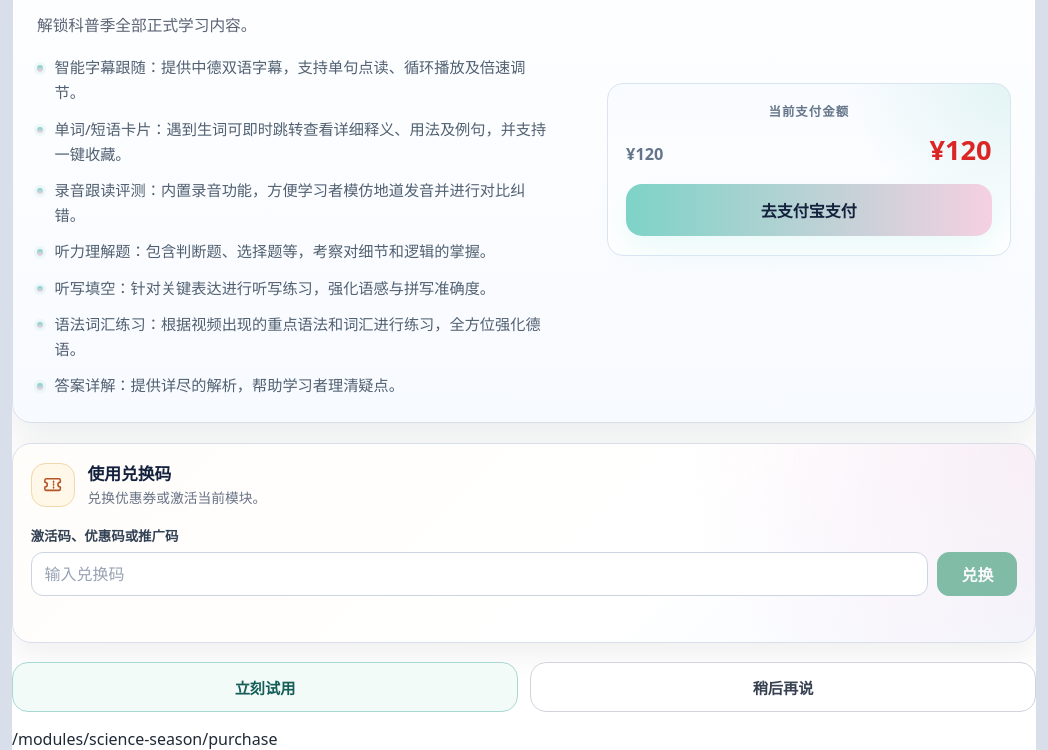
it: ModuleCheckoutPage › reports partial coupon refresh failure while keeping successful applicable updates
(page scrolled)
In the field labelled "激活码、优惠码或推广码": (479, 574) [31,552,928,596], type "SAVE"
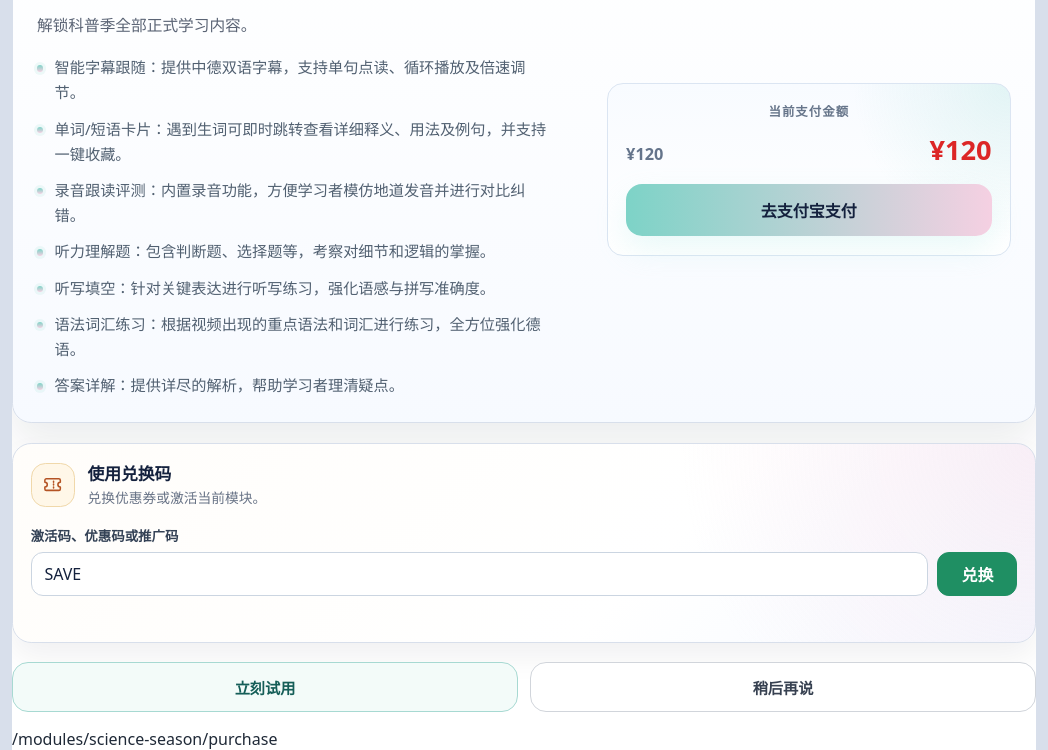
Click the button "兑换": click(977, 574) [937,552,1017,596]
(page scrolled)
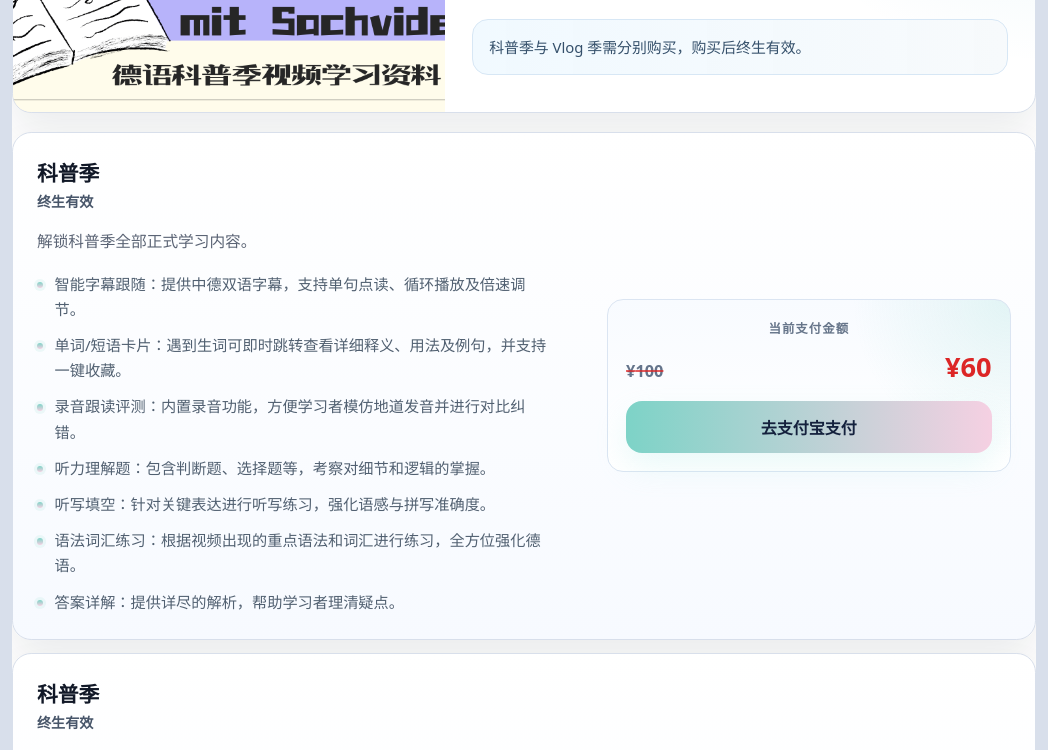
Expected: the text "¥60" is shown, [945,348,992,385]
